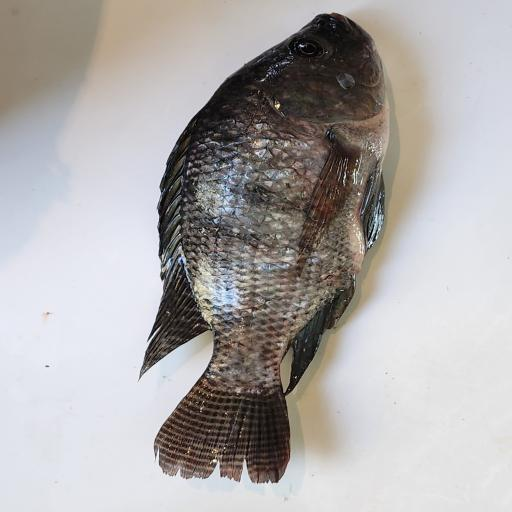Tilapia: (138, 13, 390, 484)
